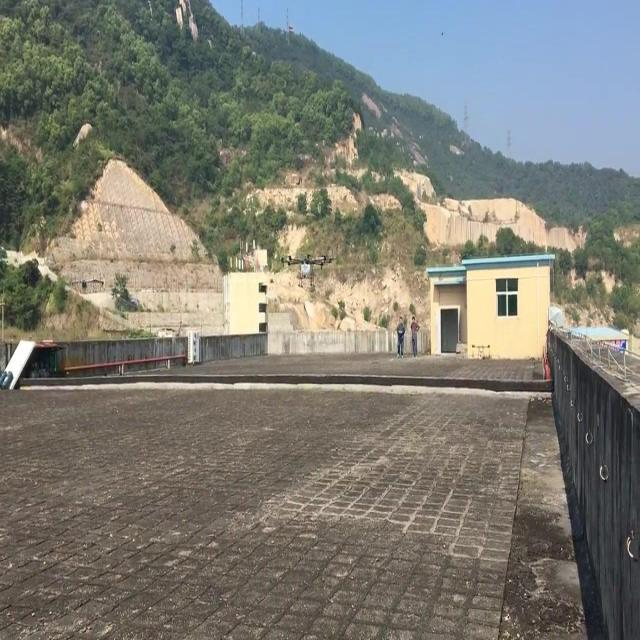drone: (279, 249, 337, 291)
